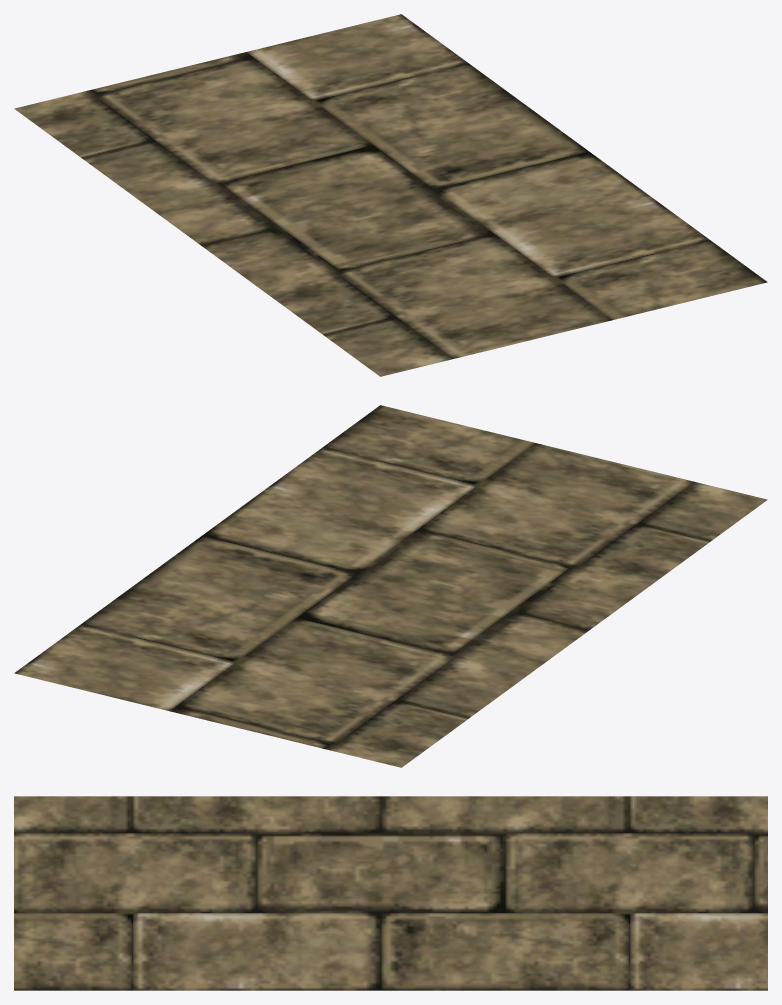
The model's file is OVERHILL_A_01_LINE193.fbx.
The picture shows the model from 3 angles, top to bottom: view 1: azimuth 30°, elevation 25°; view 2: azimuth 150°, elevation 25°; view 3: azimuth 270°, elevation 25°; orthographic projection. The views are drawn at different scales.
Visible parts, largest first — view 1: OVERHILL_A_01_LINE193; view 2: OVERHILL_A_01_LINE193; view 3: OVERHILL_A_01_LINE193.
Part boxes in pixels (x1,y1,x2,y2): OVERHILL_A_01_LINE193: [14, 14, 767, 376]; OVERHILL_A_01_LINE193: [14, 405, 767, 767]; OVERHILL_A_01_LINE193: [14, 796, 767, 990].
Size of the model in its own units: 22204 by 0.0176 by 36360.
1 material, 1 textured.
